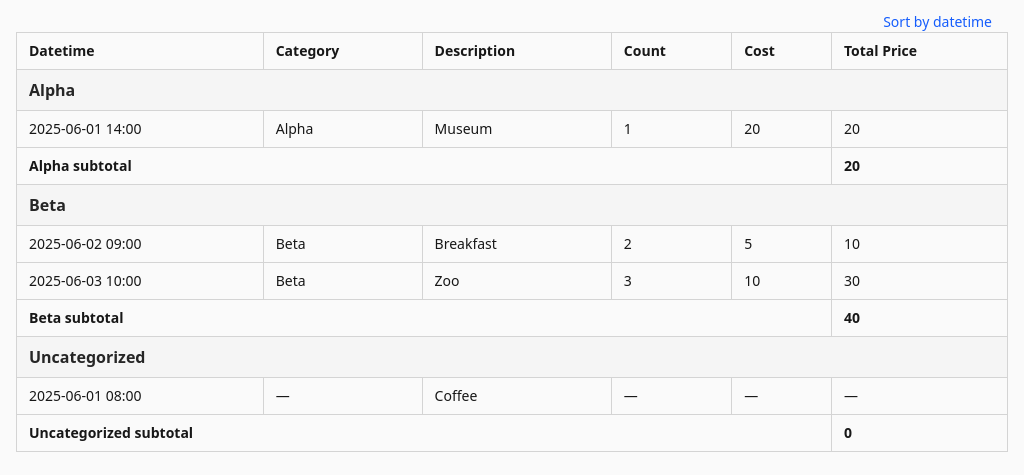
Test: ActivityTable › cancels edit on Escape without saving
The width and height of the screenshot is (1024, 475).
Click the text "Museum" at coordinates (517, 129), box [422,110,611,148]
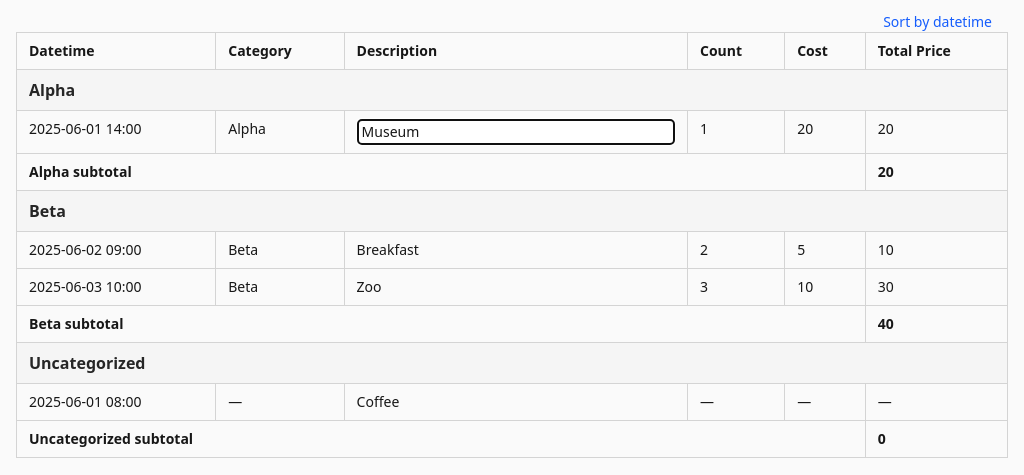
Replace the text in the field showing "Museum" with "Aquarium" at coordinates (516, 132), box [357,119,675,145]
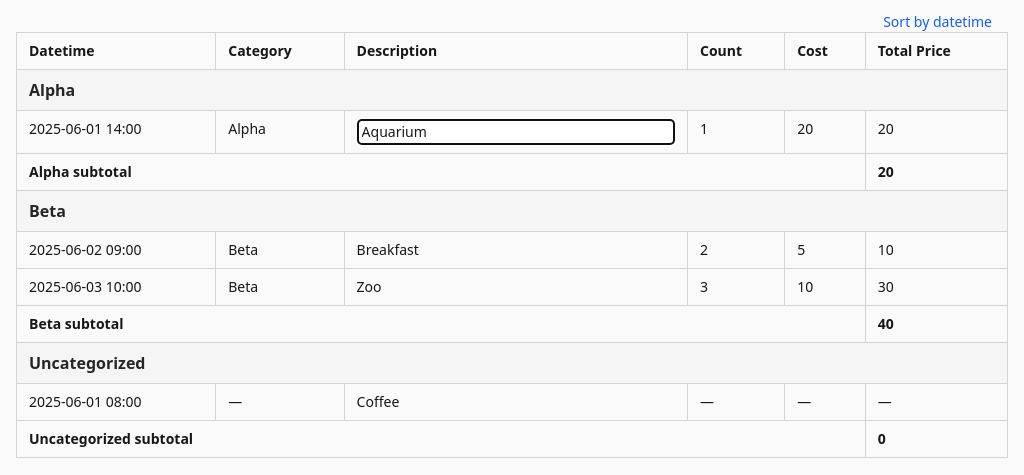
Press Escape
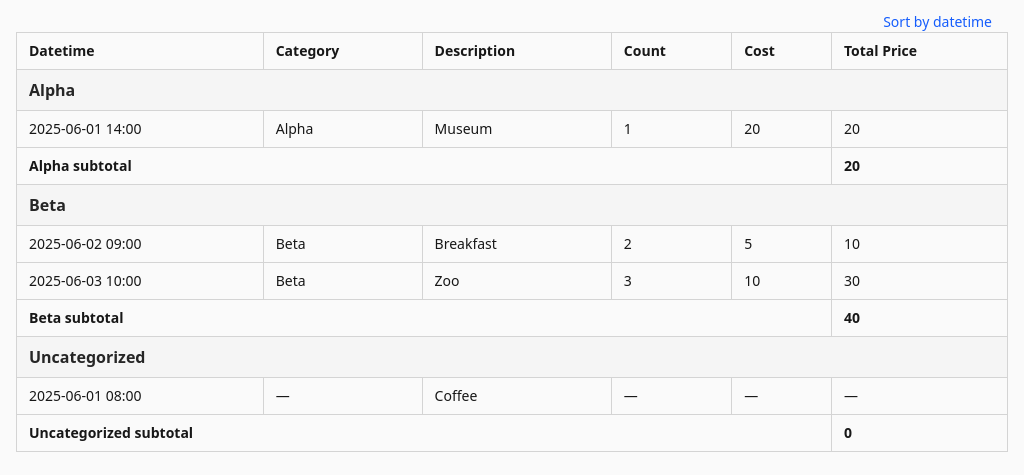
Expected: the text "Museum" is shown, [422,110,611,148]
